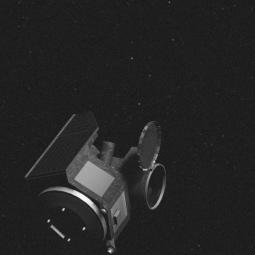cheops: (26, 107, 172, 254)
